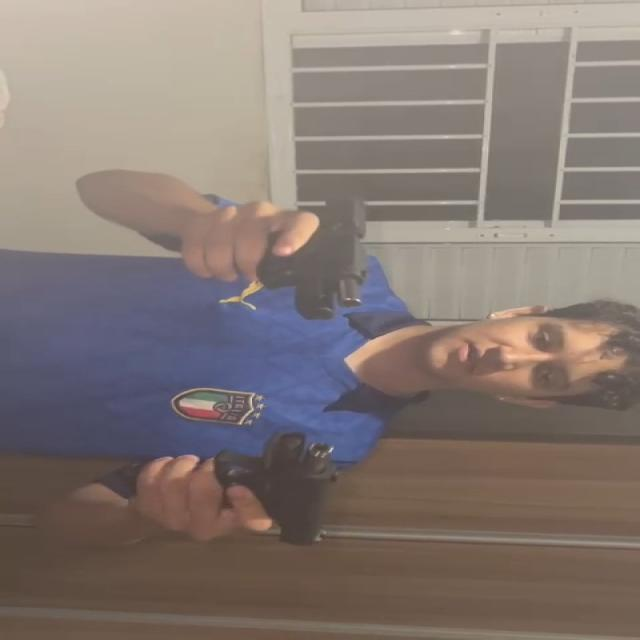gun: (253, 193, 375, 321), (215, 426, 343, 548)
